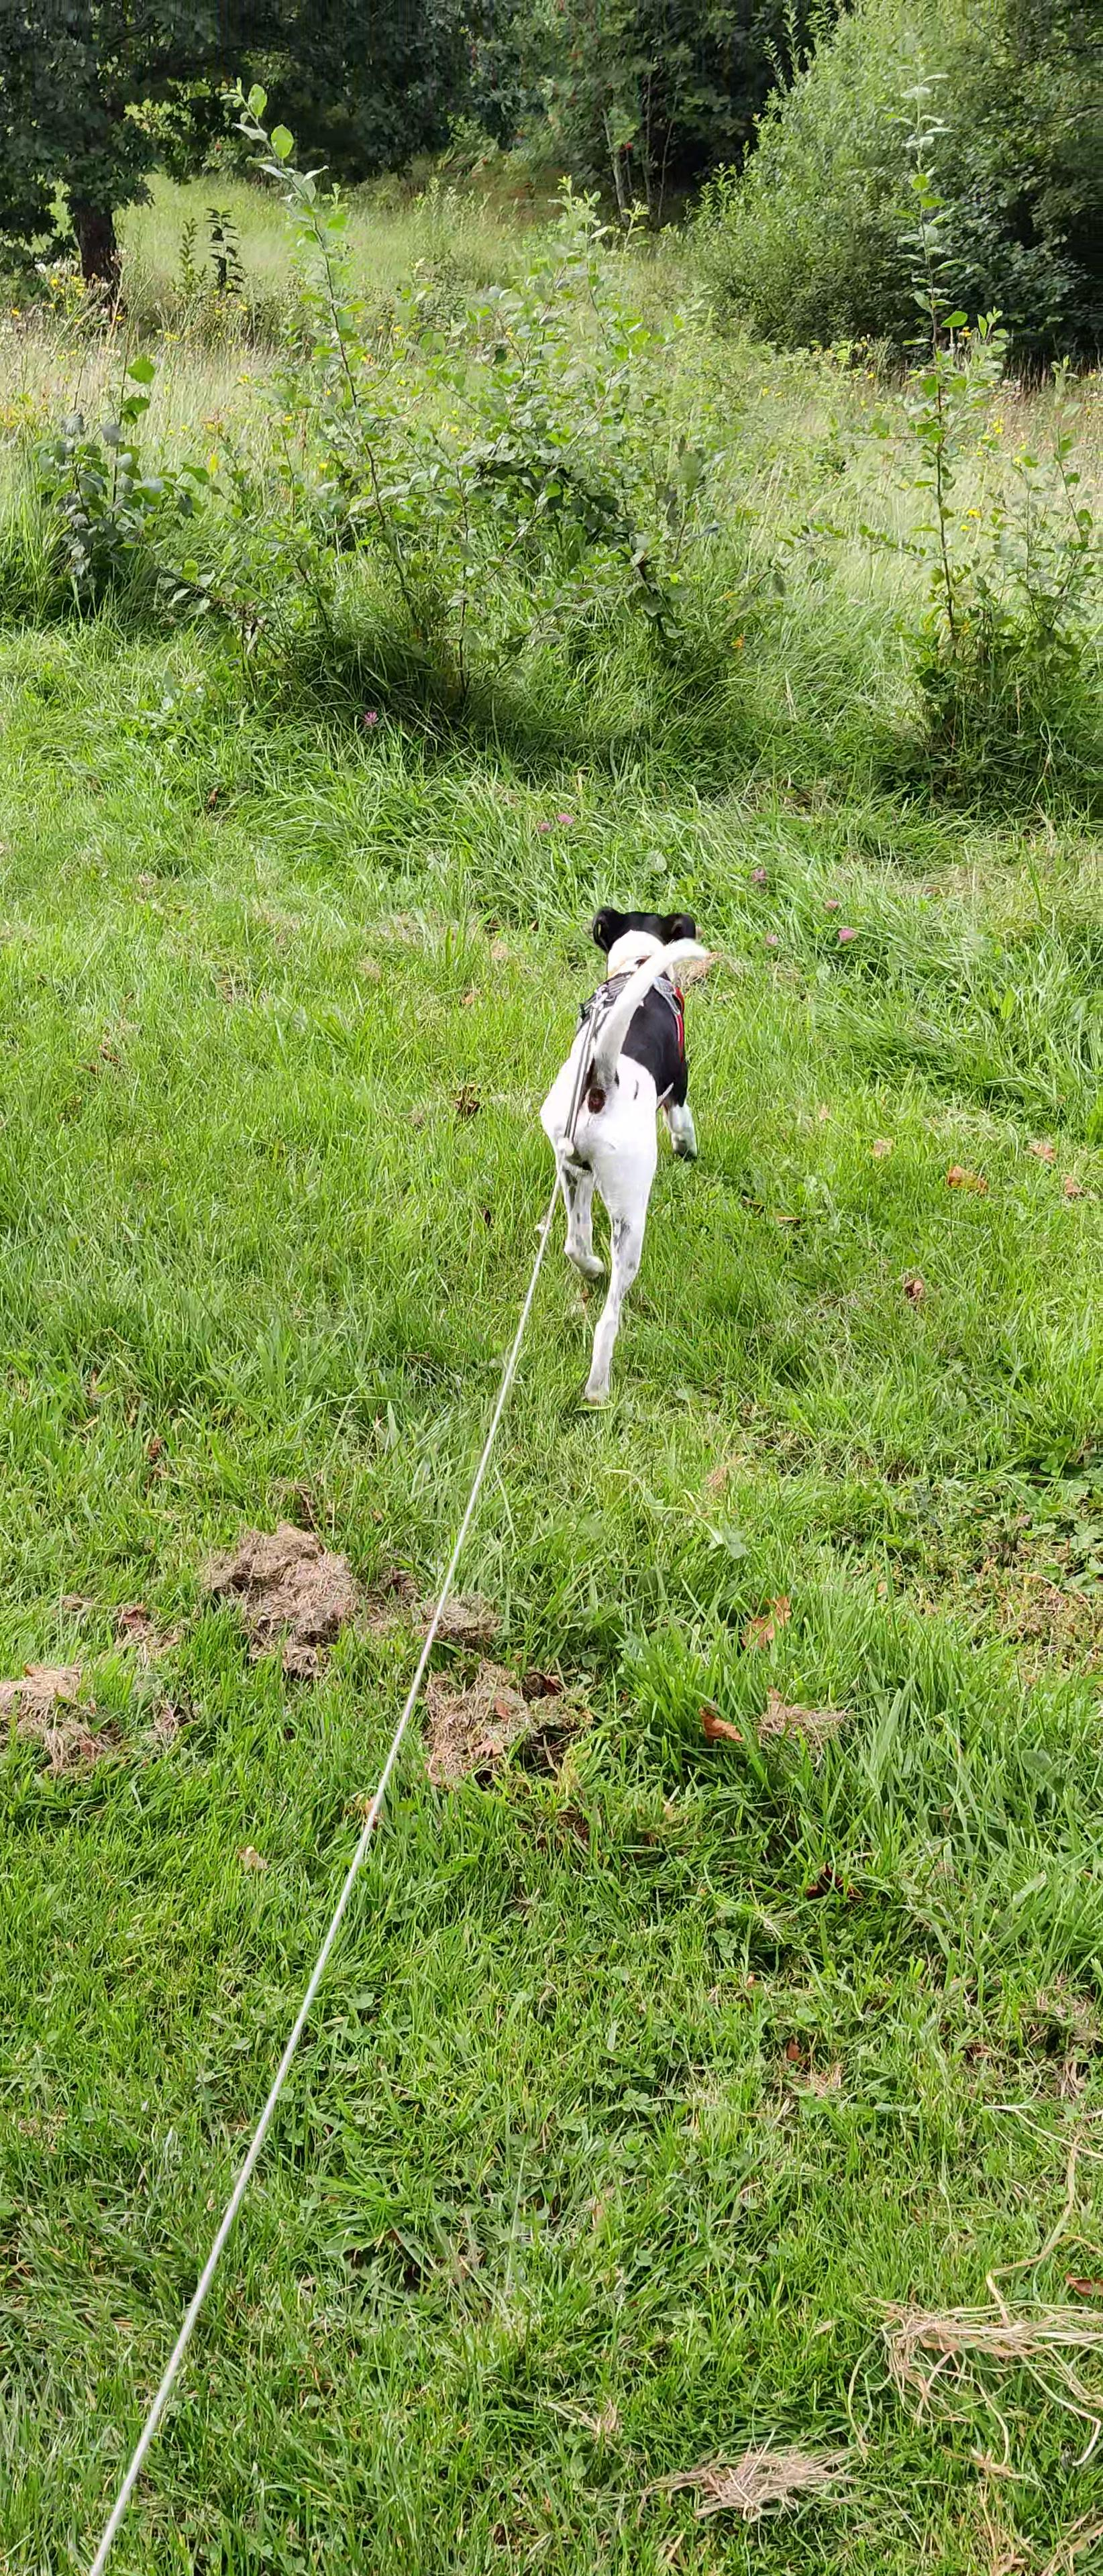Dog: (477, 882, 778, 1426)
